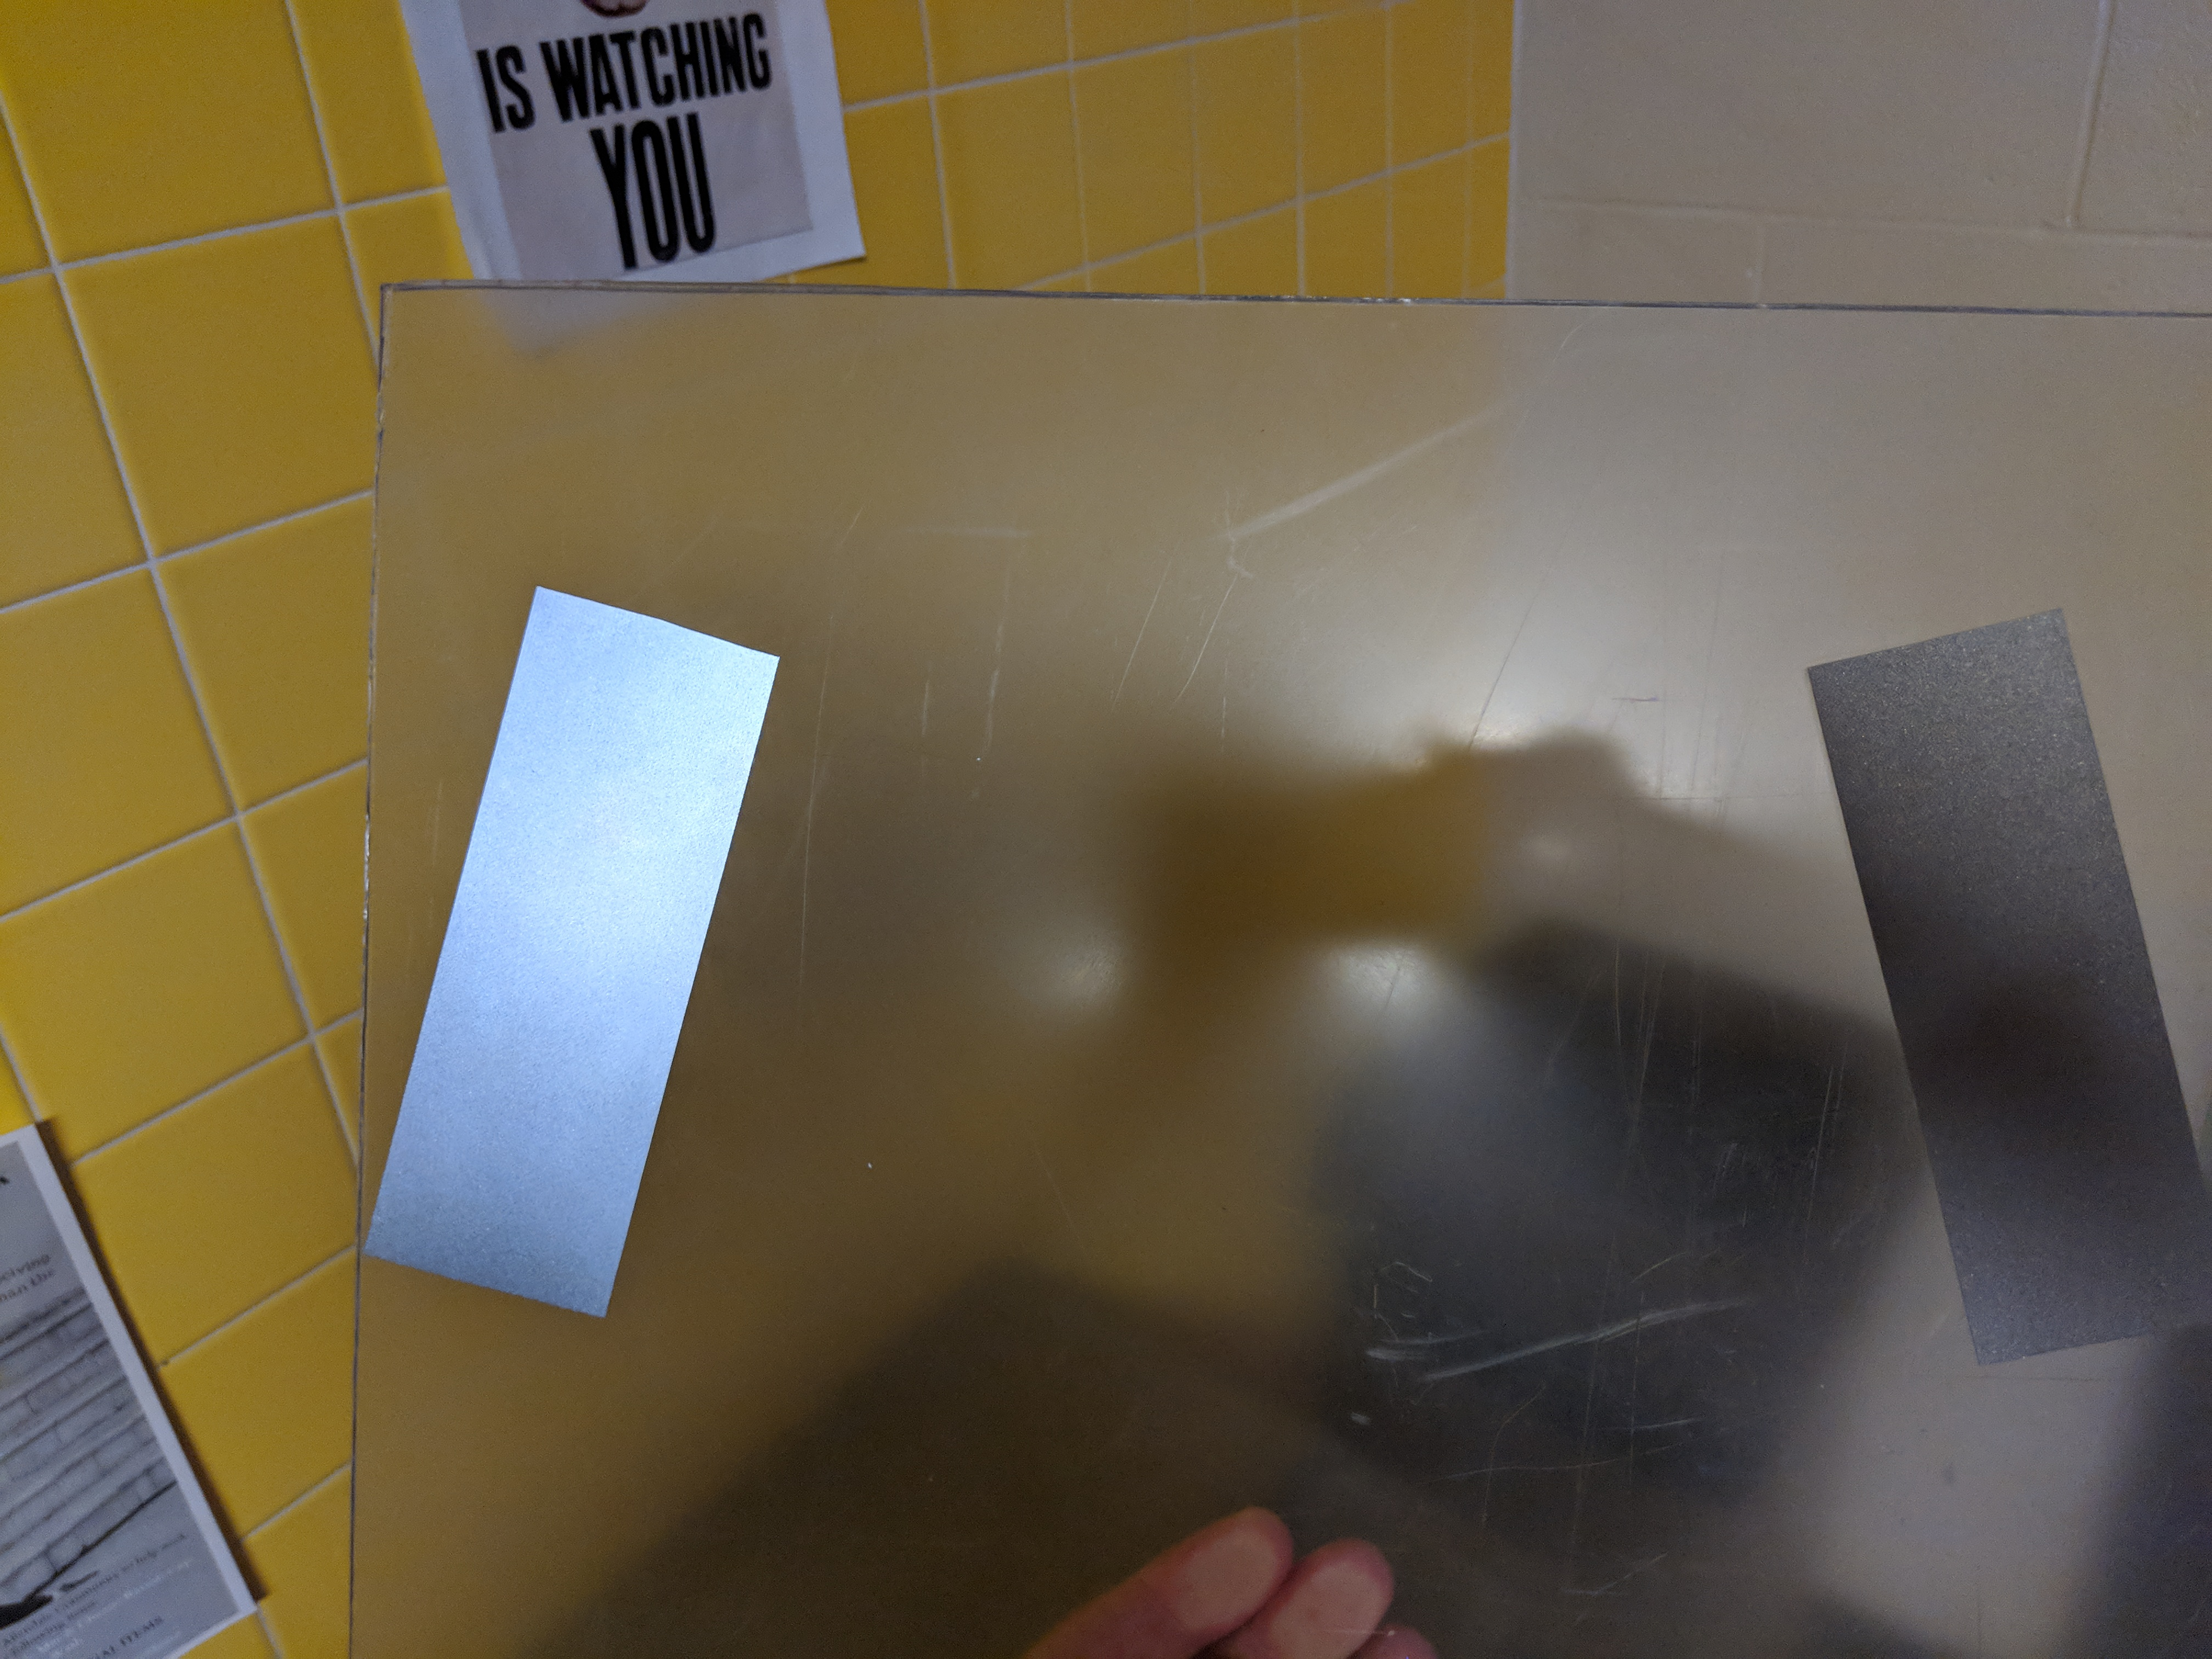vision_target: (354, 565, 2209, 1373)
